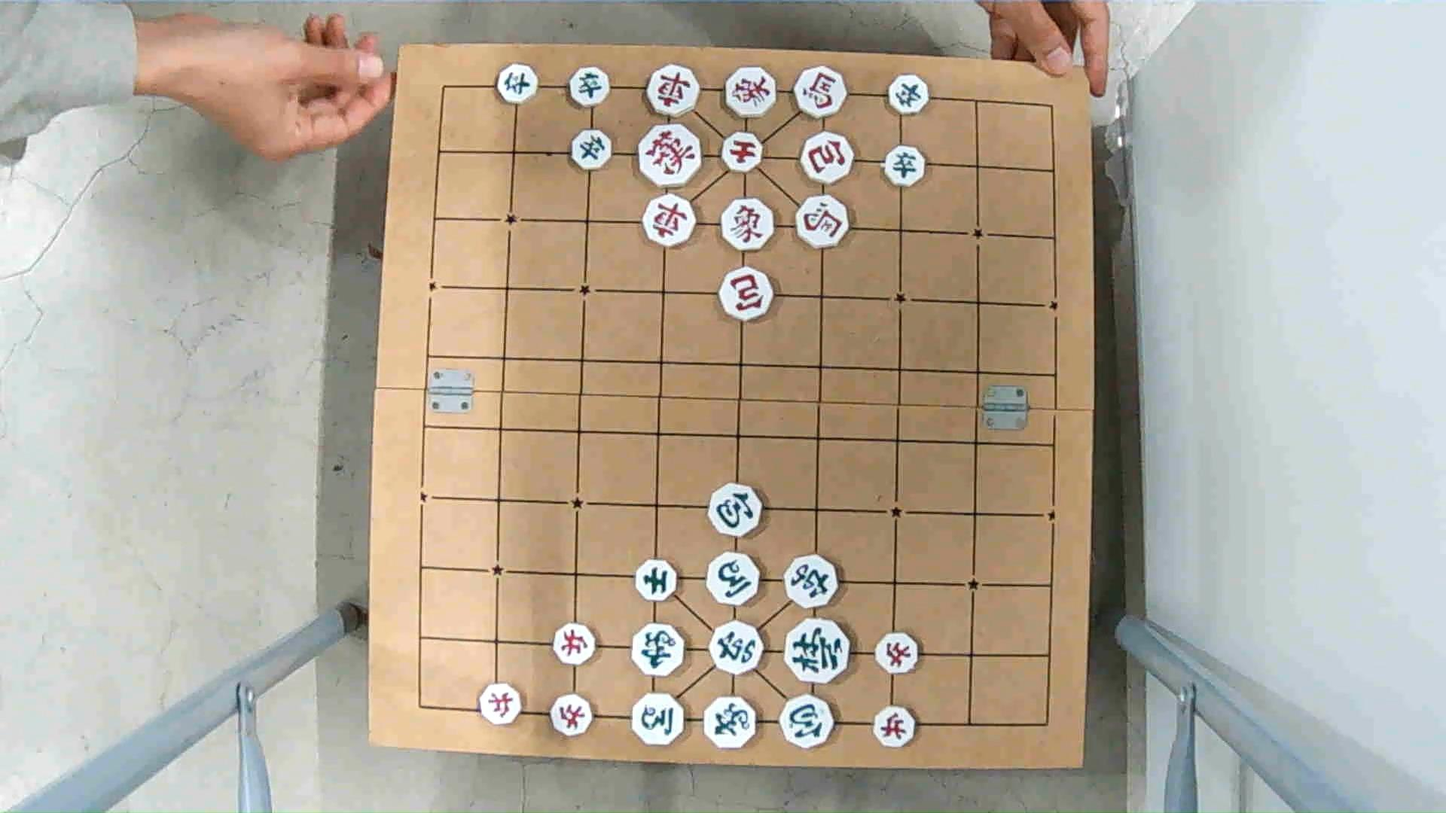cha_green: (706, 623, 764, 672), (786, 554, 838, 607)
cha_red: (642, 193, 695, 248), (646, 67, 701, 117)
jol_green: (497, 61, 538, 105), (570, 129, 615, 169), (884, 145, 928, 183), (887, 76, 931, 113), (566, 69, 610, 105)
jol_red: (873, 635, 919, 674), (551, 624, 596, 663), (477, 683, 520, 723), (873, 708, 918, 745), (552, 695, 590, 735)
ma_green: (631, 694, 688, 744), (704, 555, 758, 607)
ma_red: (793, 191, 850, 249), (793, 65, 848, 120)
po_green: (778, 698, 834, 748), (706, 485, 762, 535)
po_red: (720, 268, 776, 319), (801, 133, 856, 181)
sa_green: (633, 559, 677, 601)
sa_red: (721, 132, 764, 170)
sang_green: (705, 695, 761, 751), (633, 624, 685, 678)
sang_red: (720, 198, 775, 249), (724, 67, 779, 116)
wang_green: (786, 617, 849, 683)
wang_red: (634, 125, 700, 184)
